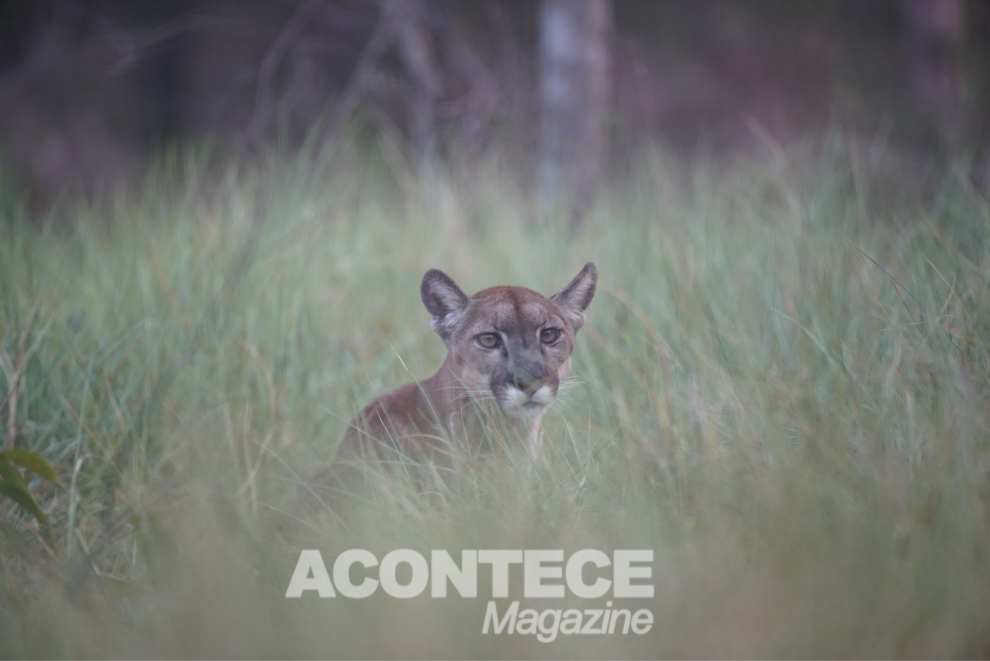OncaParda: (309, 256, 606, 481)
